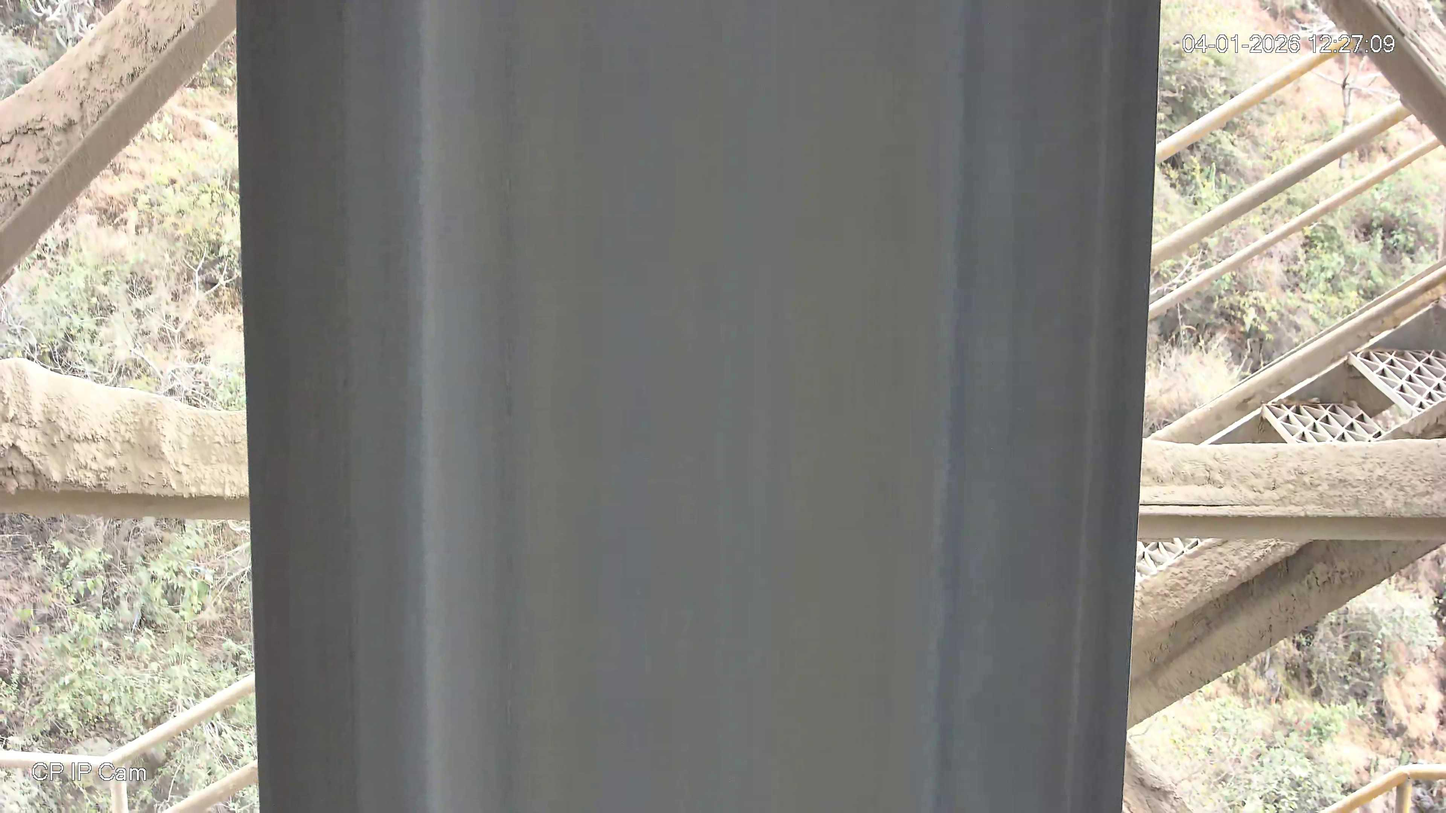belt_roi: (235, 0, 1160, 813)
